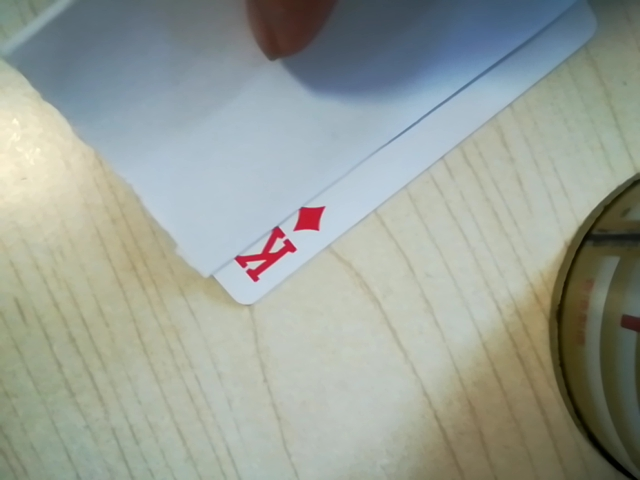fk k: (228, 203, 329, 287)
